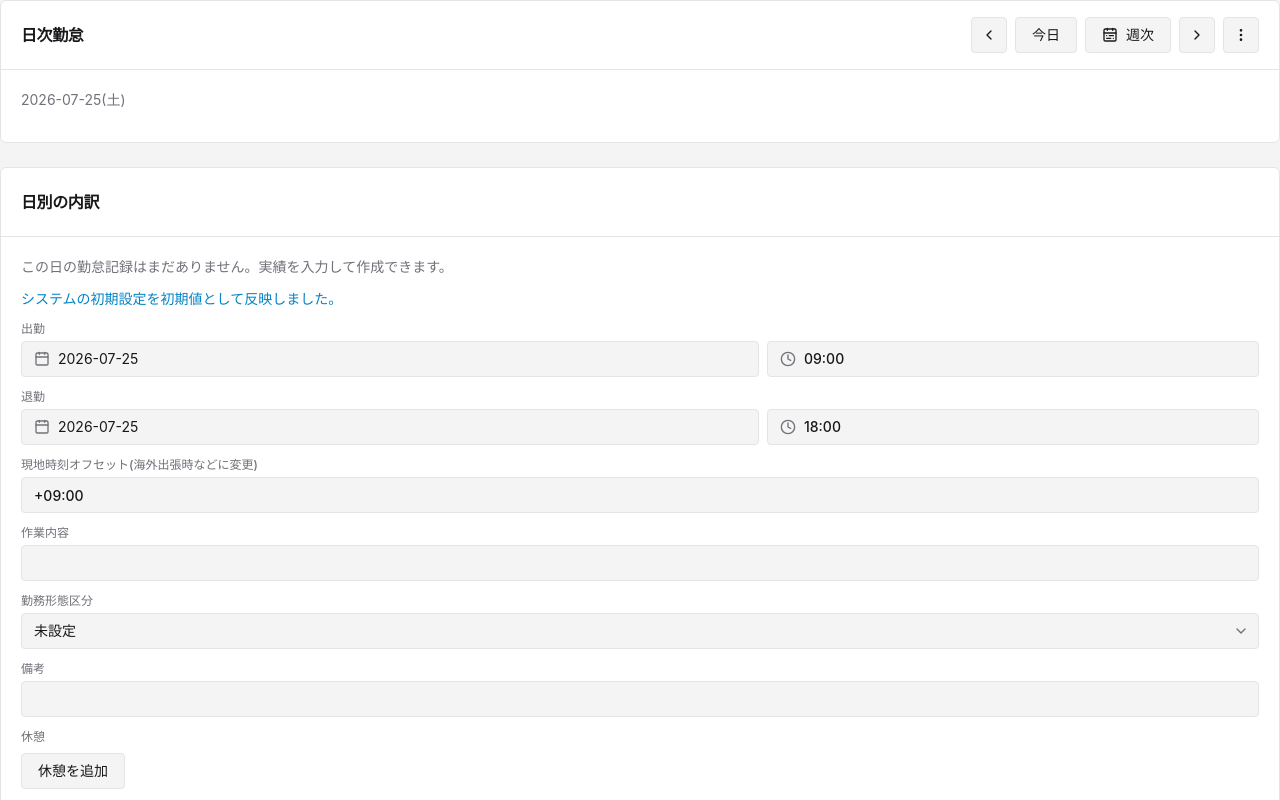
Test: AttendanceDayPage › replaces the create-form defaults when navigating to another day in the same week
Expected: the button named "出勤(日付)" reads "2026-07-25", [21,341,759,377]
Expected: the button named "出勤(時刻)" reads "09:00", [767,341,1259,377]
Click the link named "翌日".
click(1197, 35)  # box [1179,17,1215,53]
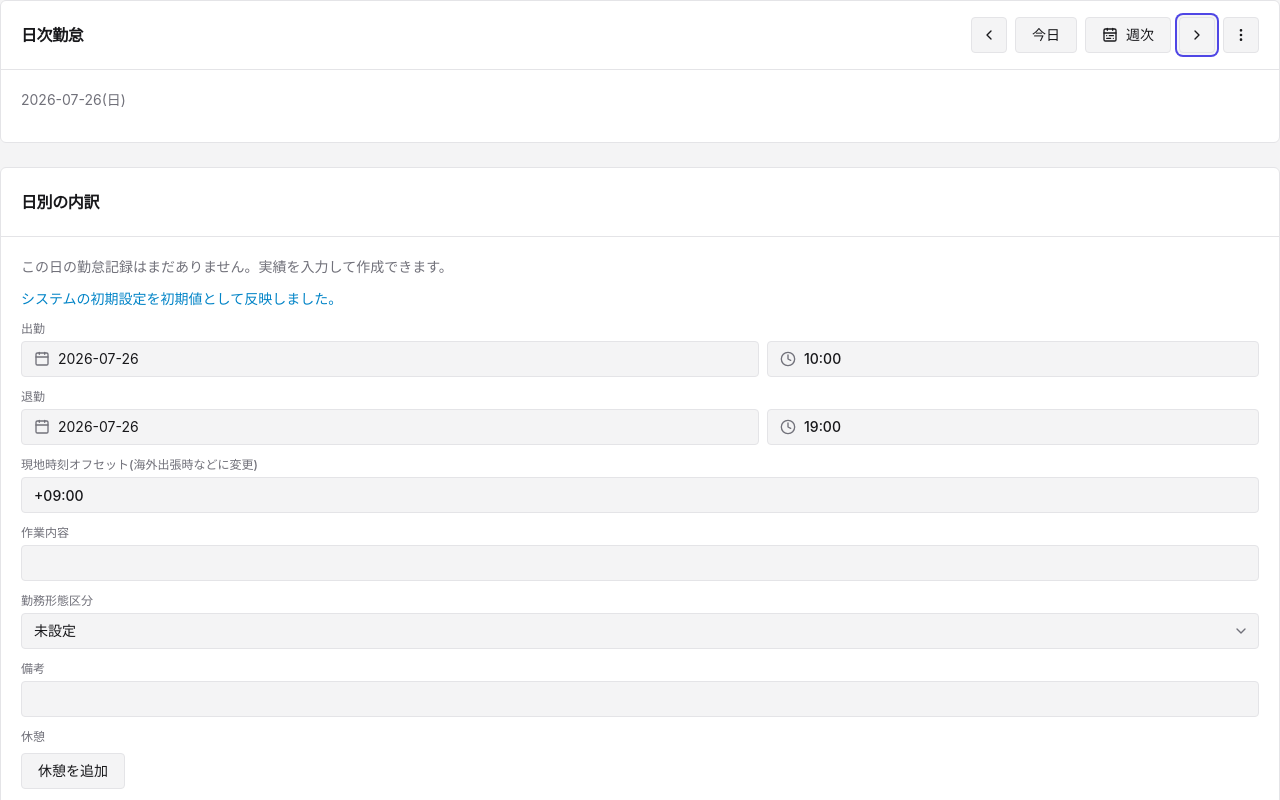
Expected: the button named "出勤(日付)" reads "2026-07-26", [21,341,759,377]
Expected: the button named "出勤(時刻)" reads "10:00", [767,341,1259,377]
